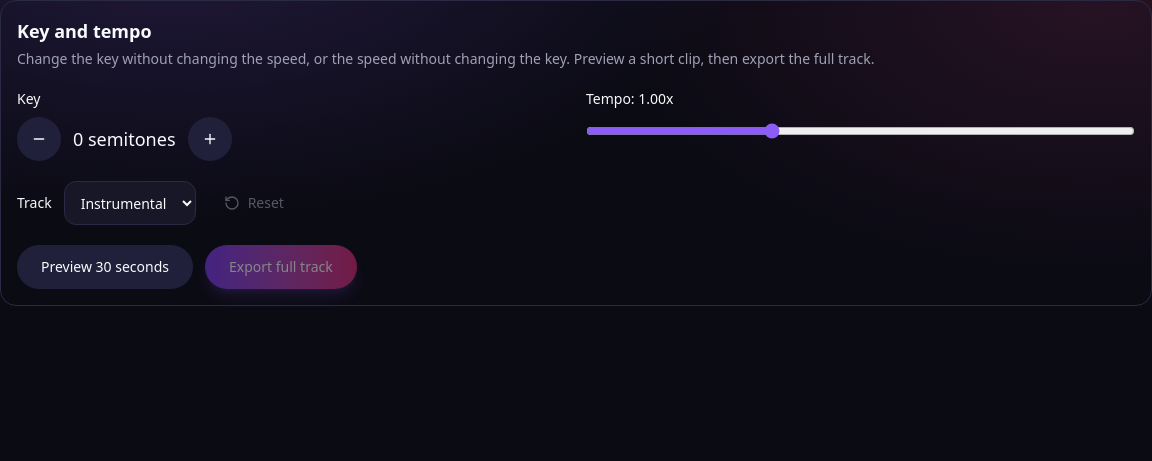
Test: KeyTempoPanel › previews a change and shows the rendered audio
Click the button named "Raise the key" at (210, 139), box top-left (188, 117), bottom-right (232, 161)
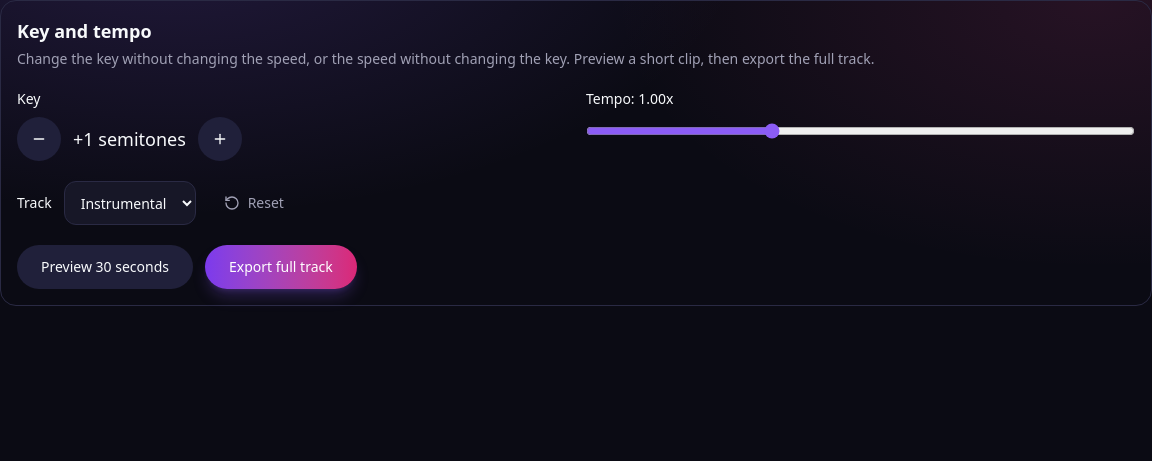
Click the button "Preview 30 seconds" at (105, 267), box top-left (17, 245), bottom-right (193, 289)
Wait 1500 ms
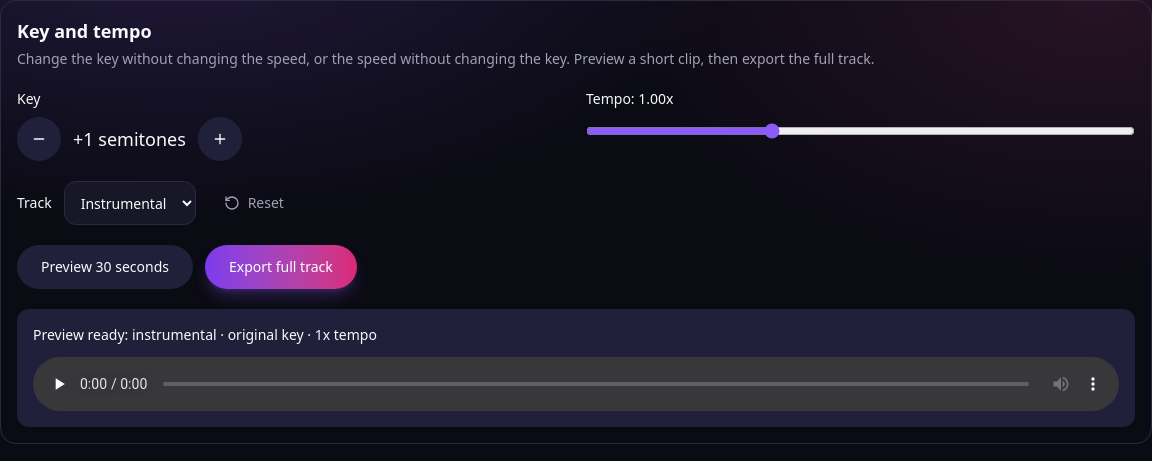
Now the text "Preview ready: instrumental · original key · 1x tempo" is shown, box top-left (33, 325), bottom-right (377, 344)
